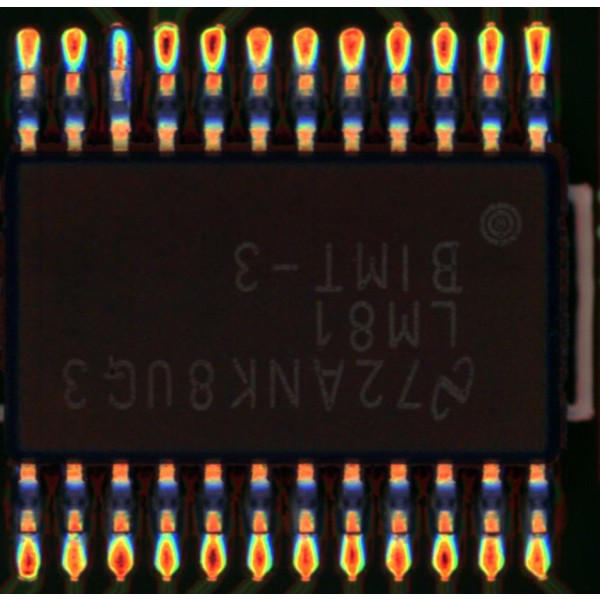Bad_podu: (346, 521, 359, 551), (485, 525, 498, 549), (114, 54, 125, 82), (533, 522, 542, 556), (208, 526, 219, 550)
